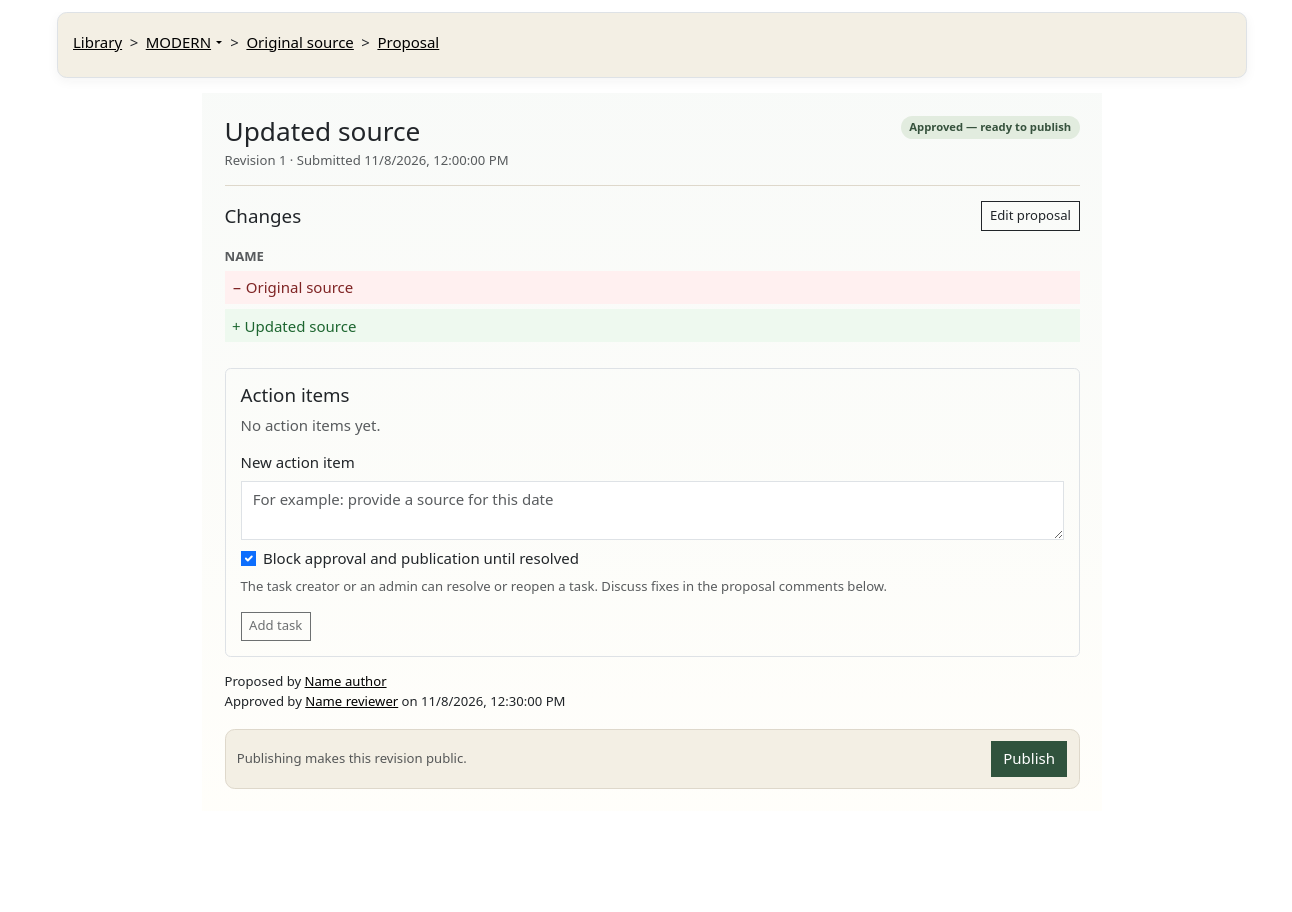
Test: the author can publish the approved revision
This screenshot has width=1292, height=912.
Step 1. Click the button "Publish" → {"x": 1029, "y": 759}, box 991,741 -> 1067,777
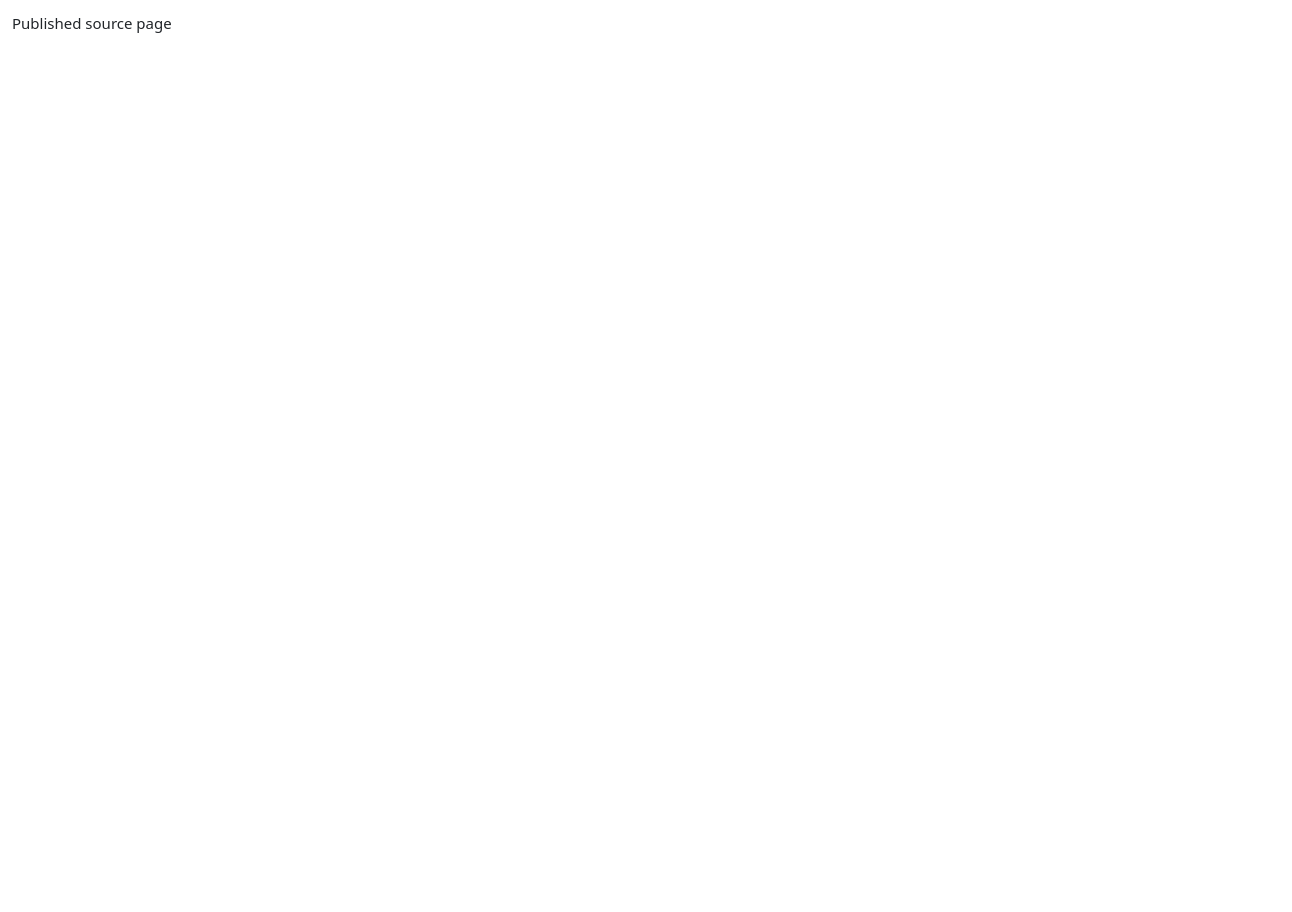
expect the text "Published source page" is shown: met, box 12,13 -> 172,33
